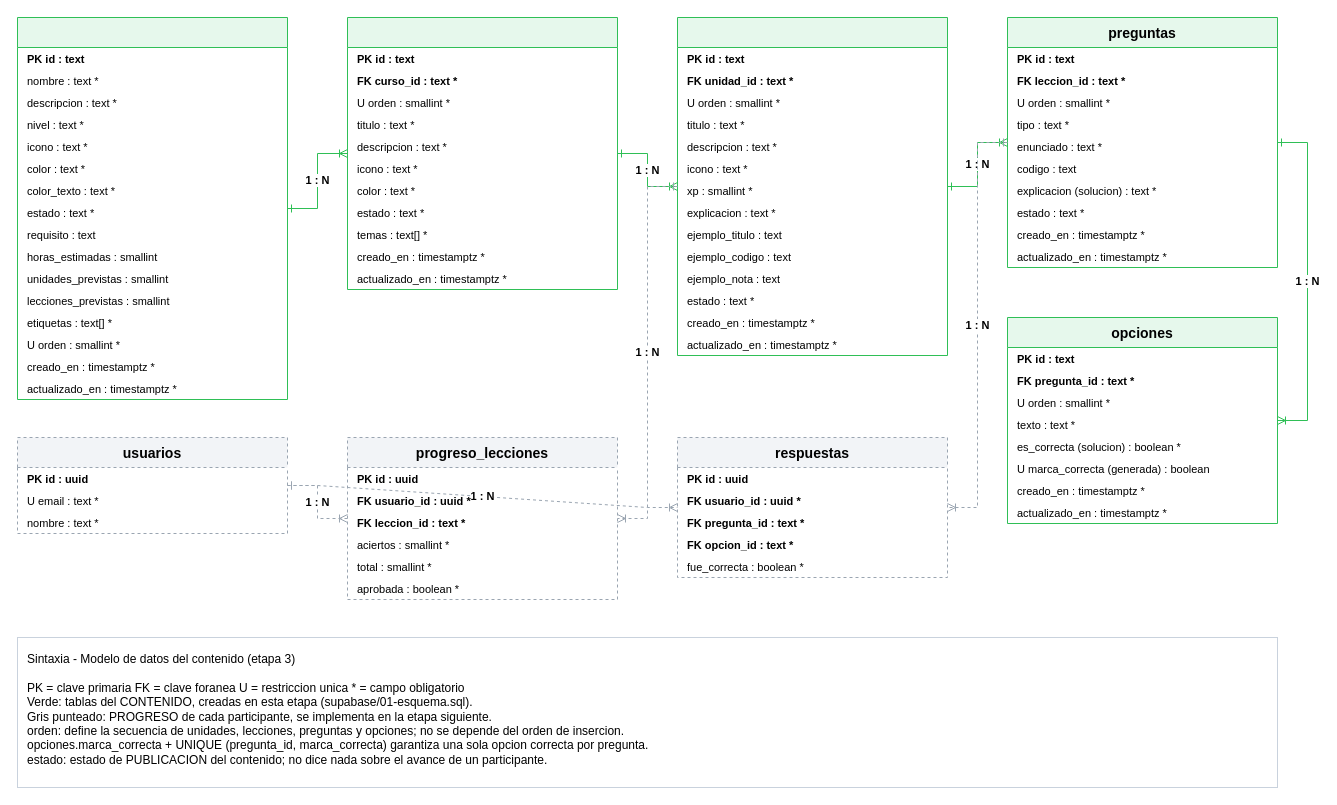
Image size: 1337x805. Some labels were removed from this diagram. The shapes that lost their labels are listed below. From the top down, each one's box as (x1, y1, x2, y2) in pixels, then its label:
(346, 16, 618, 290): unidades
(676, 16, 948, 356): lecciones
(16, 16, 288, 400): cursos
